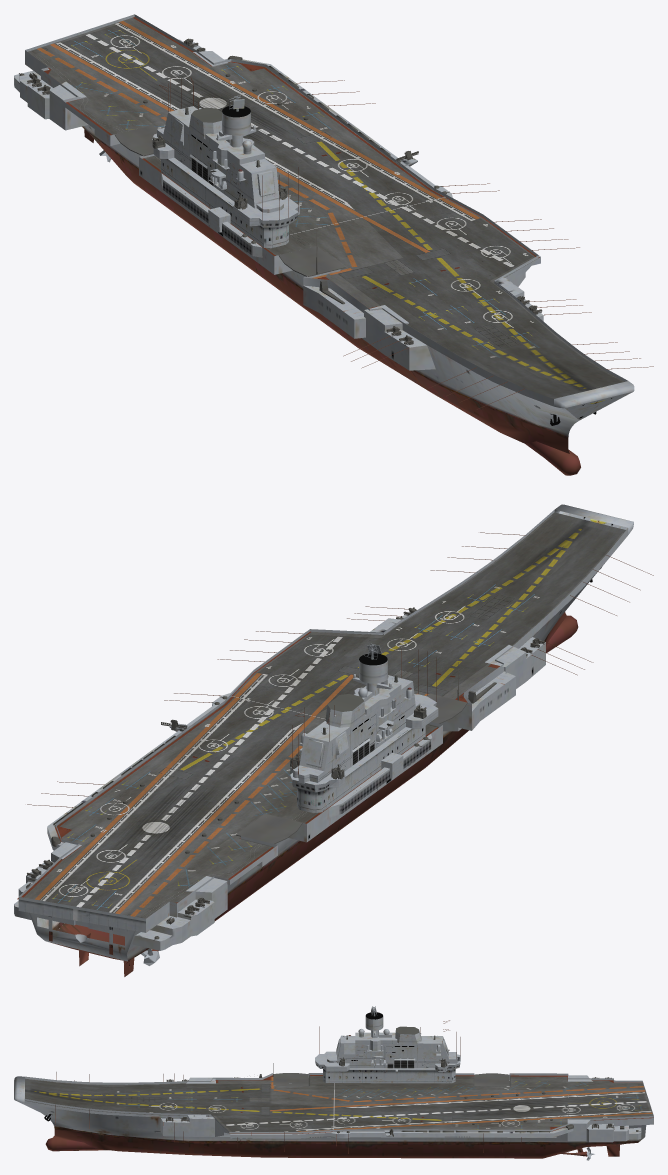
File: carrier.obj
3 renders of one model, top to bottom at view 1: azimuth 30°, elevation 25°; view 2: azimuth 150°, elevation 25°; view 3: azimuth 270°, elevation 25°, orthographic. The views are drawn at different scales.
Visible parts, largest first — view 1: roof, body, roof2, weapon; view 2: roof, body, weapon, roof2; view 3: body, roof, roof2, weapon.
Part boxes in pixels (x1=…): roof: x1=28, y1=17, x2=624, y2=398; body: x1=14, y1=14, x2=653, y2=475; roof2: x1=114, y1=125, x2=345, y2=276; weapon: x1=19, y1=38, x2=542, y2=345; roof: x1=17, y1=512, x2=625, y2=918; body: x1=14, y1=504, x2=653, y2=976; weapon: x1=26, y1=607, x2=544, y2=940; roof2: x1=236, y1=693, x2=467, y2=843; body: x1=14, y1=1012, x2=653, y2=1160; roof: x1=25, y1=1075, x2=653, y2=1134; roof2: x1=273, y1=1073, x2=509, y2=1086; weapon: x1=165, y1=1035, x2=640, y2=1136.
Size of the model in its own units: 2.4 by 1.68 by 7.73.
Materials: 1 (1 with a texture image).
